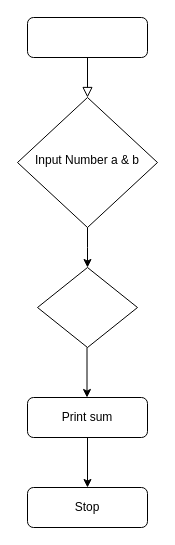
Image size: 175x545. Some labels were removed from this diagram. The centre of each missing label's shape, as x and y in pixels:
"Start" belongs at (x=87, y=37).
"Sum= a + b" belongs at (x=87, y=307).
